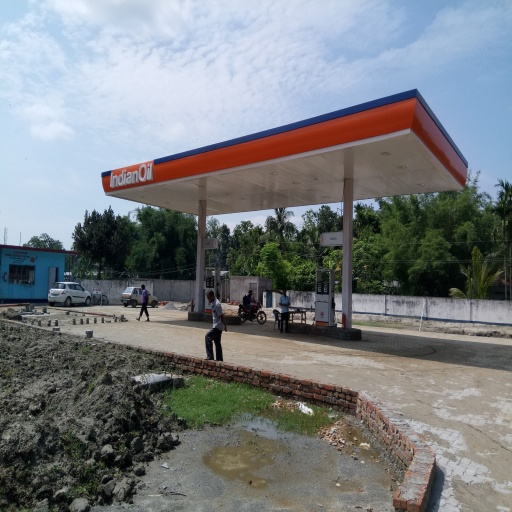roof: (101, 85, 472, 217)
